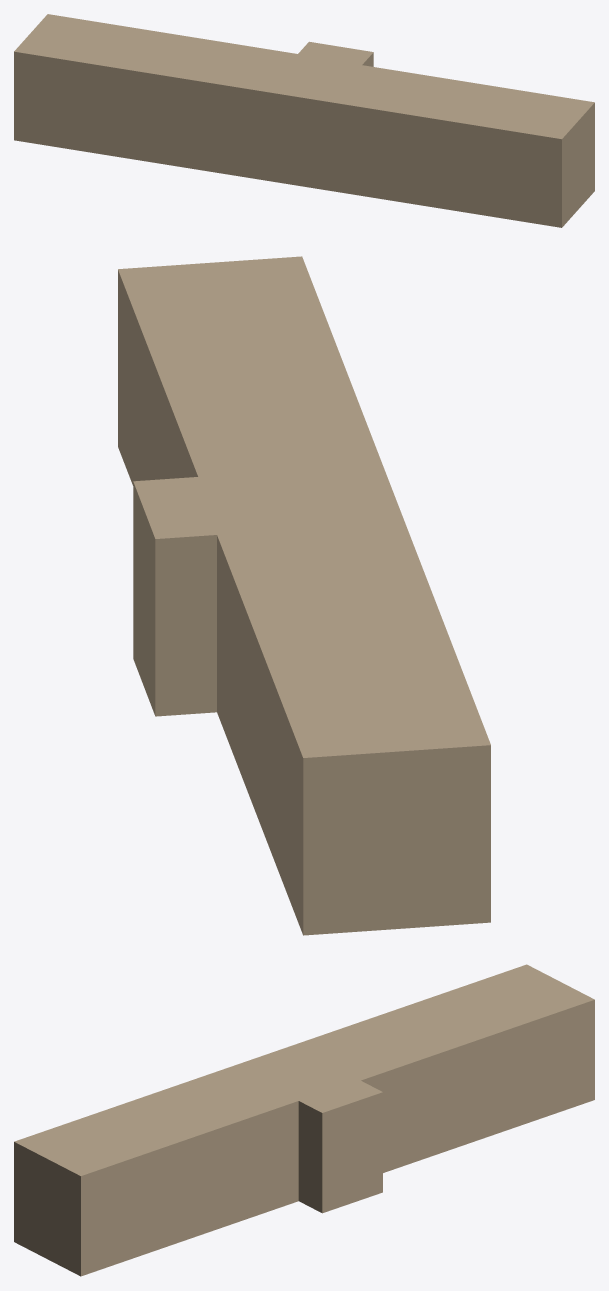
The model's file is bld_512403795.dae.
3 views of the same model, one above another, from view 1: azimuth 30°, elevation 25°; view 2: azimuth 150°, elevation 25°; view 3: azimuth 270°, elevation 25° (orthographic). The views are drawn at different scales.
Visible parts, largest first — view 1: bld_512403795; view 2: bld_512403795; view 3: bld_512403795.
Boxes of the visible parts, x1,y1,x2,y2 form: bld_512403795: (14,14,594,227); bld_512403795: (118,256,490,935); bld_512403795: (14,964,594,1276).
Bounding box in the file's own units: 36.22 × 41.99 × 8.
